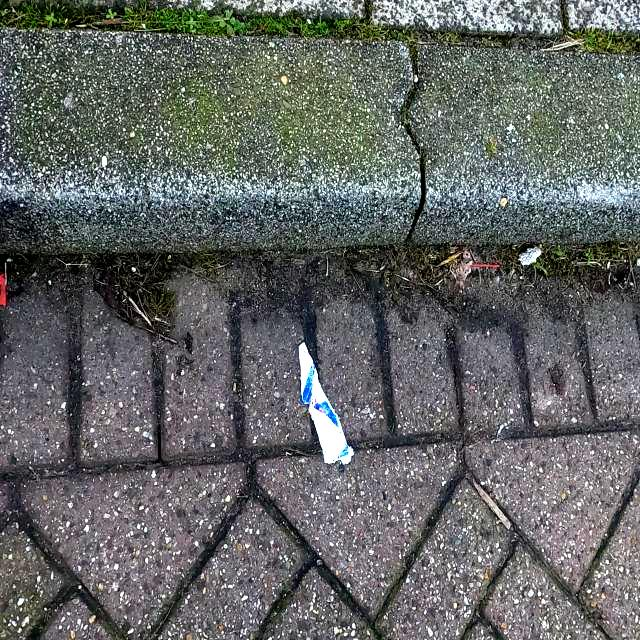Metal: (289, 335, 367, 473)
